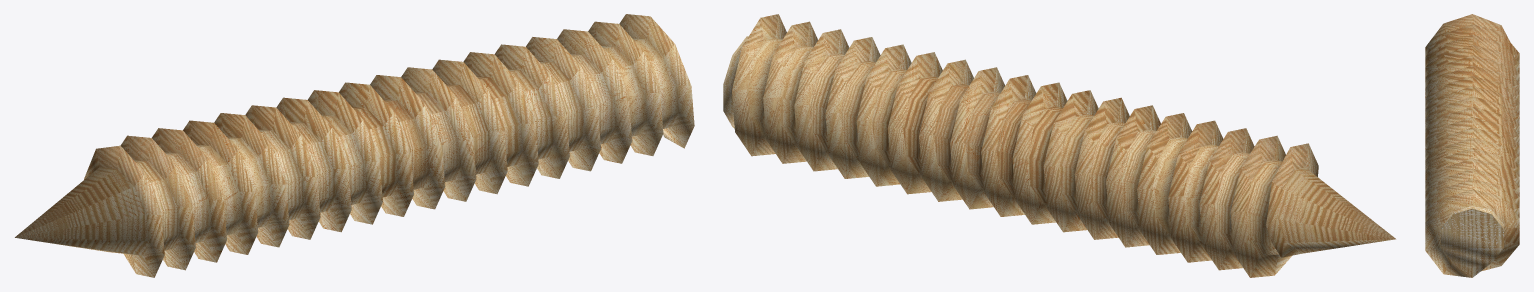
The model's file is original-180.obj.
3 views of the same model, side by side, from view 1: azimuth 30°, elevation 25°; view 2: azimuth 150°, elevation 25°; view 3: azimuth 270°, elevation 25° (orthographic). The views are drawn at different scales.
Visible parts, largest first — view 1: Group110/mesh182/mesh182-geometry#mesh182-geometry; view 2: Group110/mesh182/mesh182-geometry#mesh182-geometry; view 3: Group110/mesh182/mesh182-geometry#mesh182-geometry.
Part boxes in pixels (x1,y1,x2,y2): Group110/mesh182/mesh182-geometry#mesh182-geometry: (15, 14, 694, 277); Group110/mesh182/mesh182-geometry#mesh182-geometry: (723, 14, 1395, 277); Group110/mesh182/mesh182-geometry#mesh182-geometry: (1425, 14, 1519, 277).
Bounding box in the file's own units: 0.039 × 0.00759 × 0.00722.
